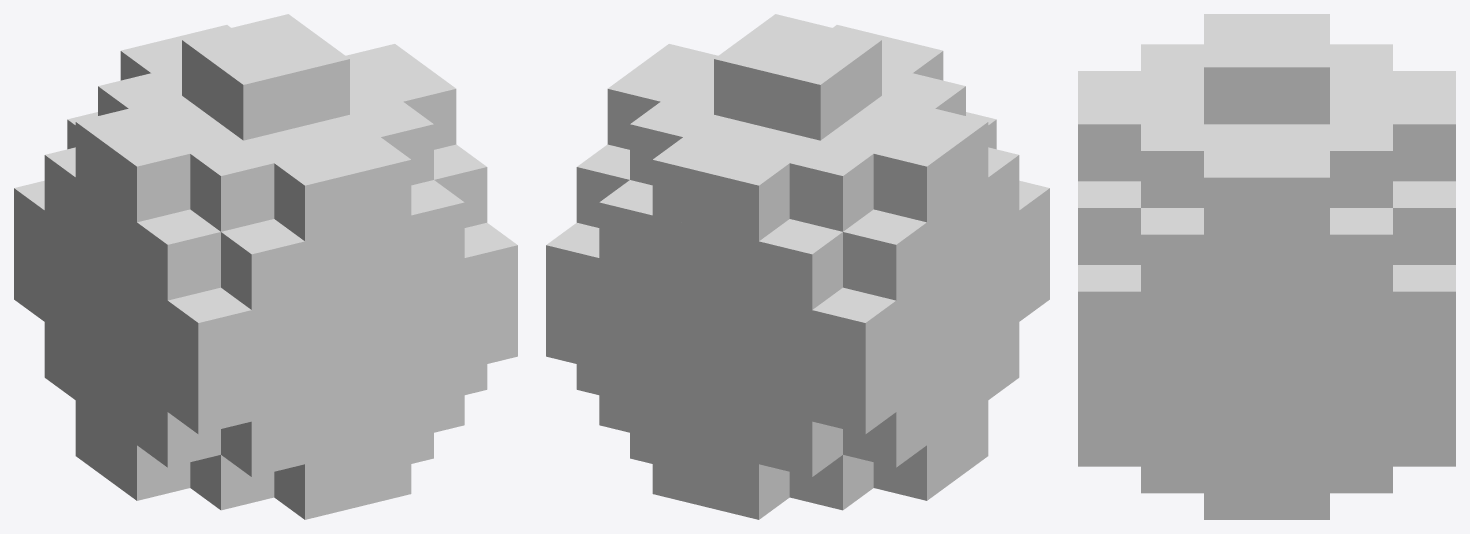
Rendered from BolaNieve.dae.
3 views of the same model, side by side, from view 1: azimuth 30°, elevation 25°; view 2: azimuth 150°, elevation 25°; view 3: azimuth 270°, elevation 25° (orthographic). The views are drawn at different scales.
Visible parts, largest first — view 1: Node-local; view 2: Node-local; view 3: Node-local.
Boxes of the visible parts, bbox=[...] form: Node-local: bbox=[14, 14, 517, 519]; Node-local: bbox=[546, 14, 1049, 519]; Node-local: bbox=[1078, 14, 1455, 519].
Bounding box in the file's own units: 6 × 7 × 6.
1 material, 1 textured.
